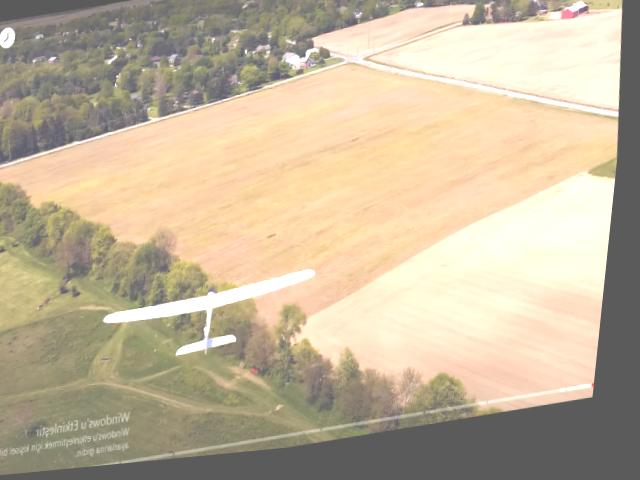plane: (102, 269, 328, 373)
